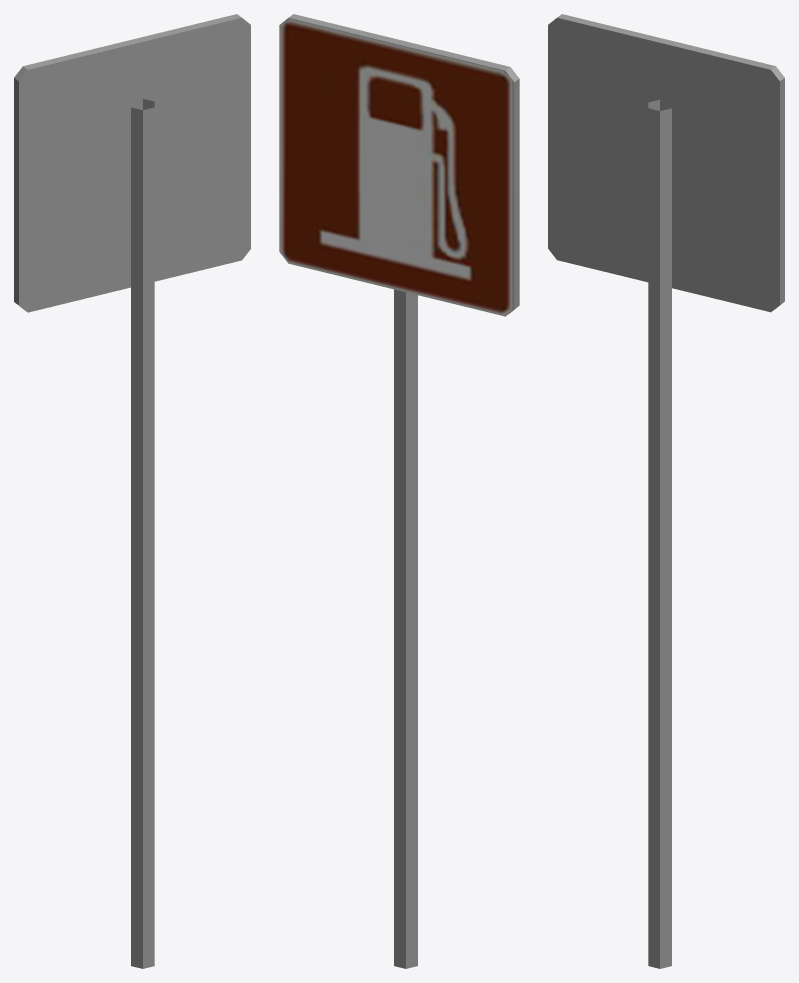
Rendered from RoadSign4_3.fbx.
3 renders of one model, left to right at view 1: azimuth 30°, elevation 25°; view 2: azimuth 150°, elevation 25°; view 3: azimuth 330°, elevation 25°, orthographic.
Parts seen in each view (by area): view 1: Circle.007; view 2: Circle.007; view 3: Circle.007.
Part boxes in pixels (box(x1,y1,x2,y2)): Circle.007: box(14, 14, 250, 968); Circle.007: box(279, 14, 519, 968); Circle.007: box(548, 14, 784, 968).
Size of the model in its own units: 98.17 by 370 by 12.35.
